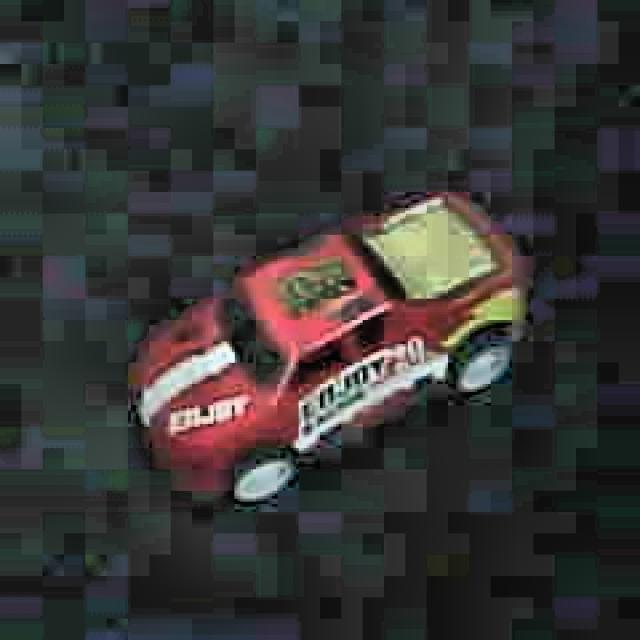car: (122, 182, 528, 514)
